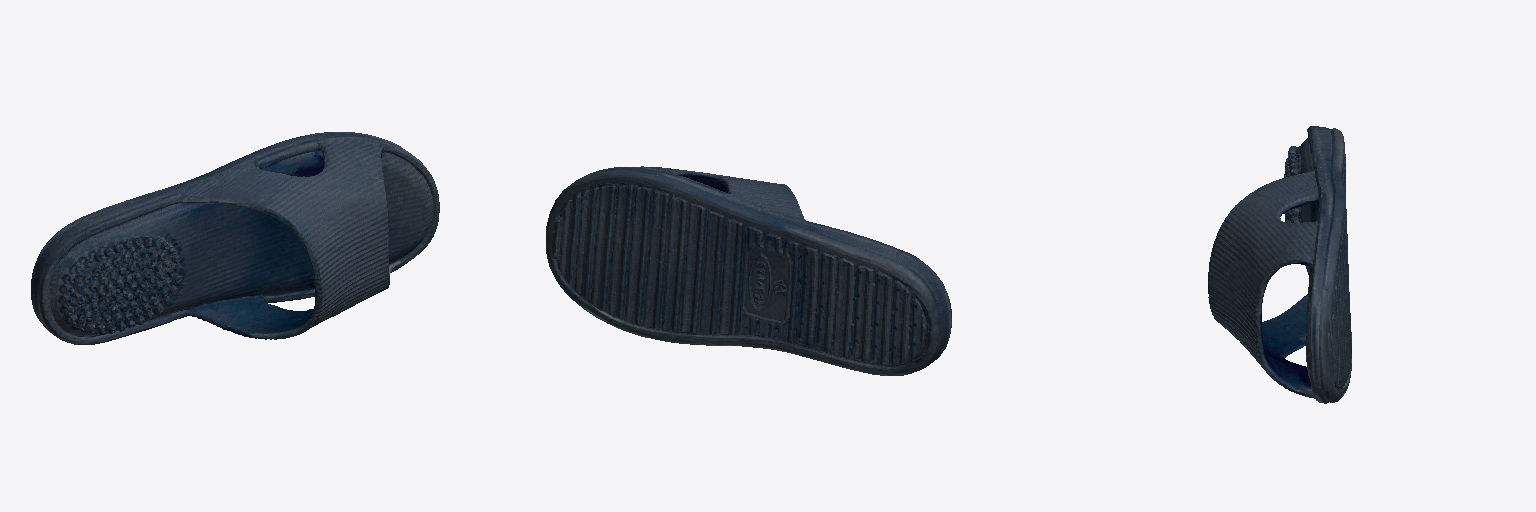
3 views of the same model, side by side, from view 1: azimuth 30°, elevation 25°; view 2: azimuth 150°, elevation 25°; view 3: azimuth 270°, elevation 25° (orthographic).
Bounding box in the file's own units: 263 × 101 × 82.36.
1 materials, 1 textured.